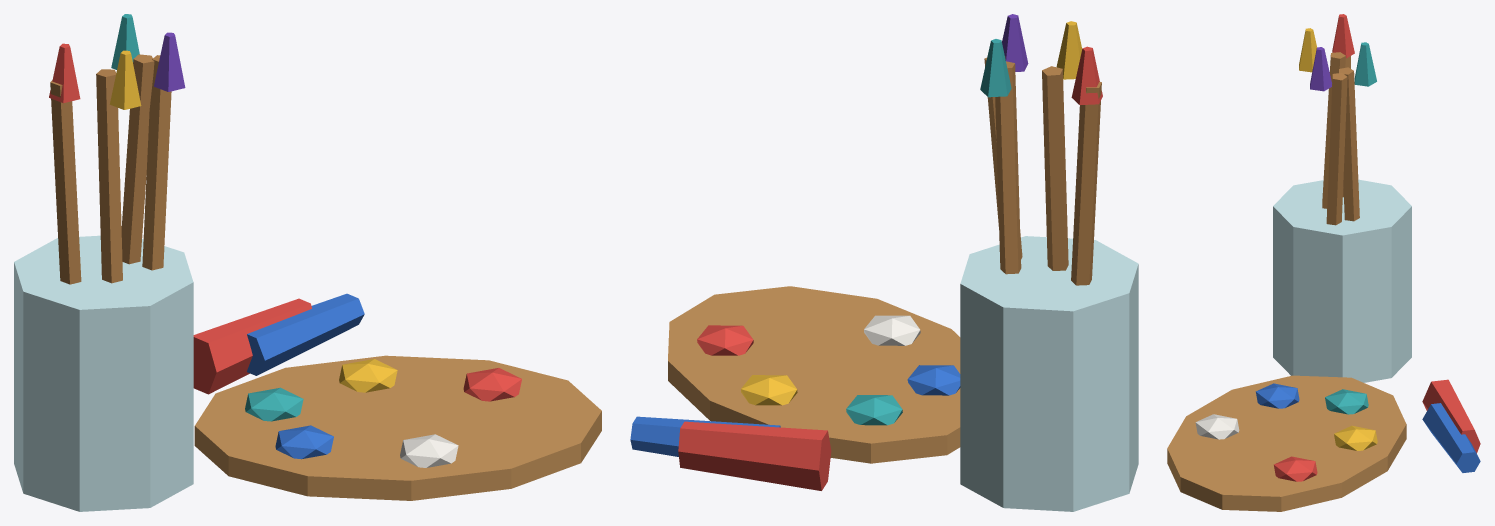
File: paint_supplies.glb
3 renders of one model, left to right at view 1: azimuth 30°, elevation 25°; view 2: azimuth 150°, elevation 25°; view 3: azimuth 270°, elevation 25°, orthographic. The views are drawn at different scales.
Visible parts, largest first — view 1: paint_supplies; view 2: paint_supplies; view 3: paint_supplies.
Boxes of the visible parts, left/top/right/bottom form: paint_supplies: left=14, top=14, right=601, bottom=511; paint_supplies: left=630, top=14, right=1138, bottom=511; paint_supplies: left=1167, top=14, right=1480, bottom=511.
Size of the model in its own units: 0.3132 by 0.2623 by 0.2254.
